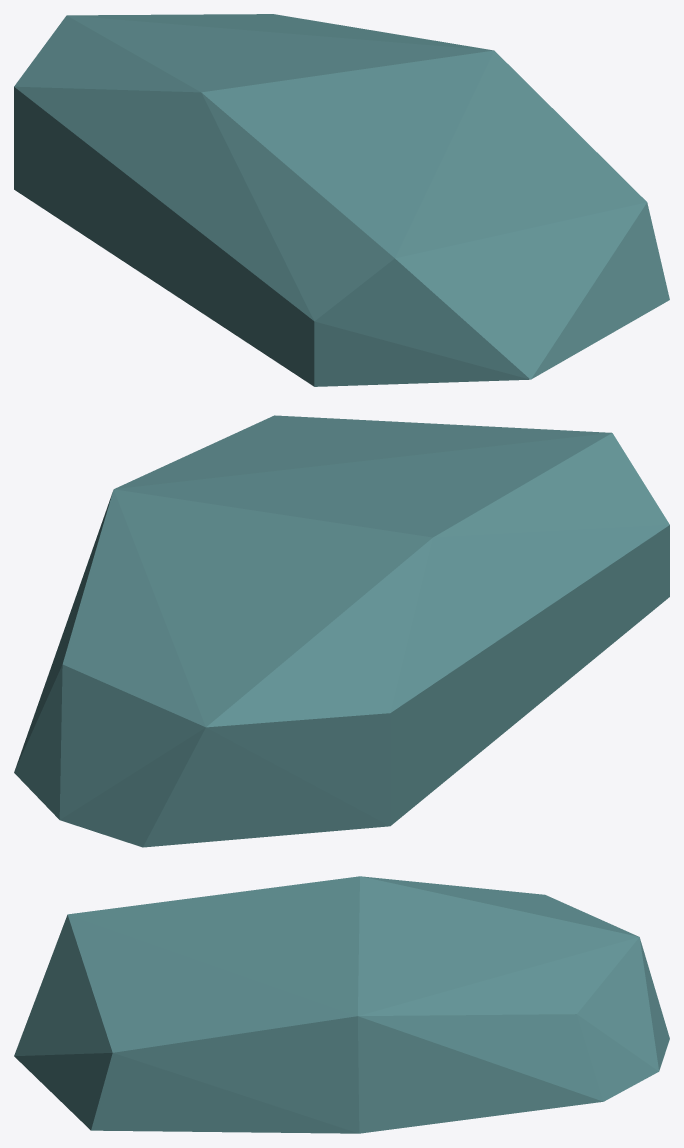
File: Boulder_10_Collider_01.FBX
3 renders of one model, top to bottom at view 1: azimuth 30°, elevation 25°; view 2: azimuth 150°, elevation 25°; view 3: azimuth 270°, elevation 25°, orthographic. The views are drawn at different scales.
Visible parts, largest first — view 1: COLLIDER1; view 2: COLLIDER1; view 3: COLLIDER1.
Part boxes in pixels (bbox=[...]): COLLIDER1: bbox=[14, 14, 669, 386]; COLLIDER1: bbox=[14, 415, 669, 847]; COLLIDER1: bbox=[14, 876, 669, 1133].
Size of the model in its own units: 74.62 by 29.84 by 134.
